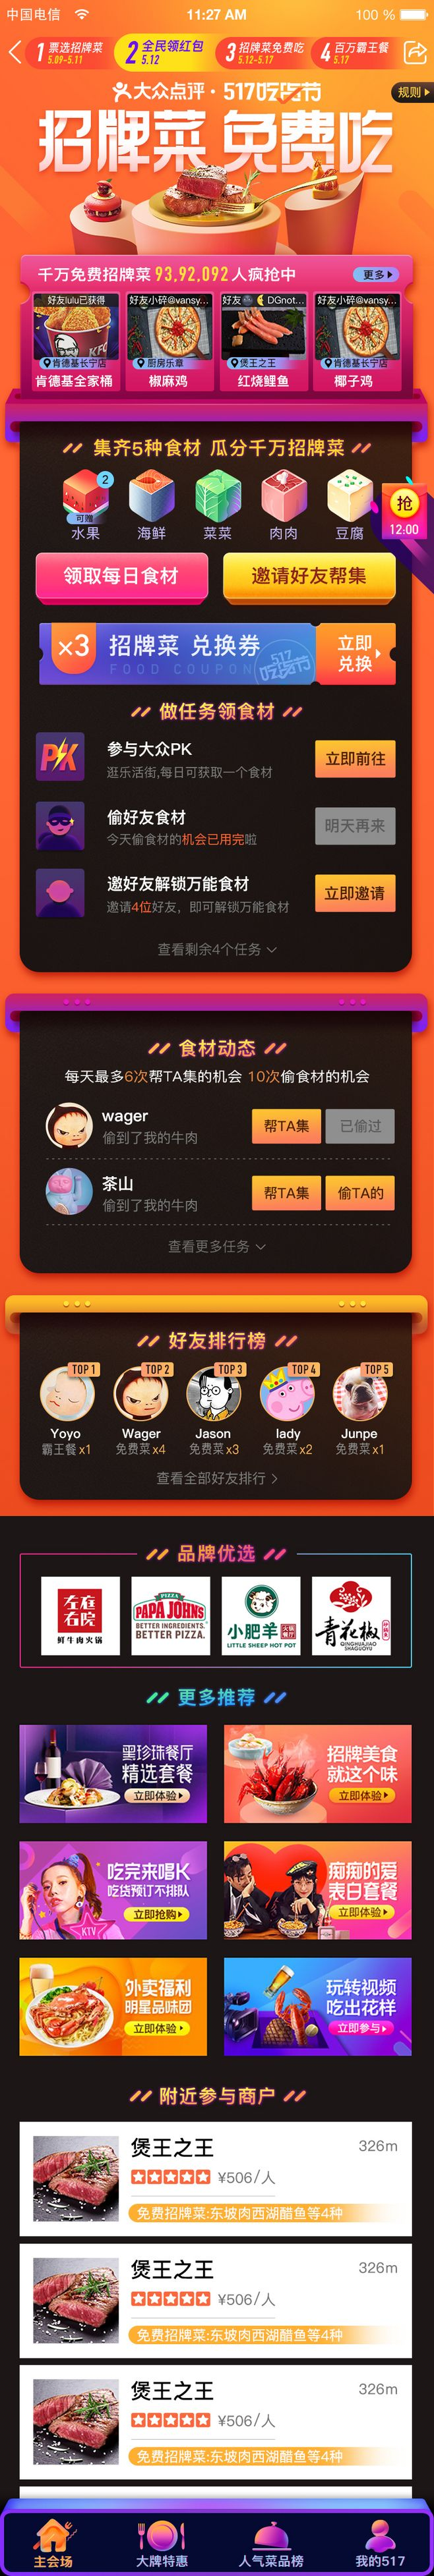floors: (0, 2081, 434, 2482), (0, 1687, 434, 2060), (0, 697, 434, 973), (0, 432, 434, 690), (0, 1033, 434, 1260), (0, 1322, 434, 1492), (0, 255, 434, 402), (0, 1541, 434, 1671)
toutu: (0, 76, 434, 255)
